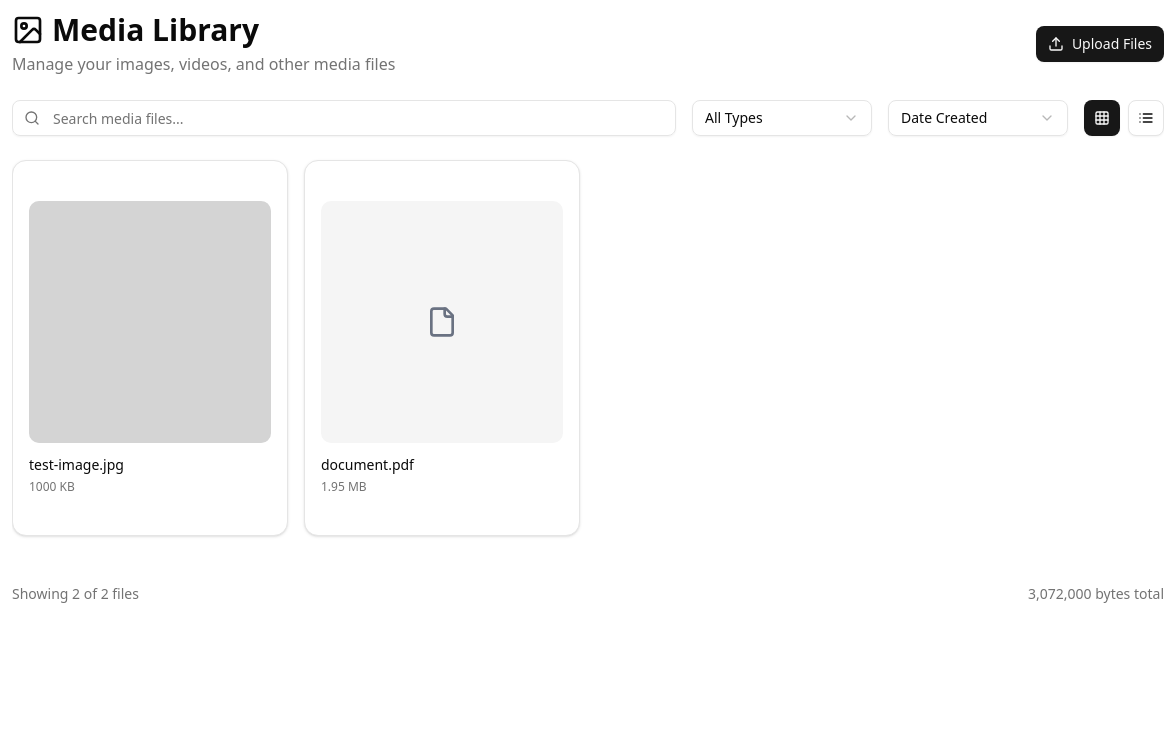
it: MediaLibrary Component › Empty State › shows filtered empty state
The image size is (1176, 732).
// Search for non-existent file
Type "nonexistent-file" into the field with placeholder "Search media files..." at [344, 118], box [12,100,676,136]
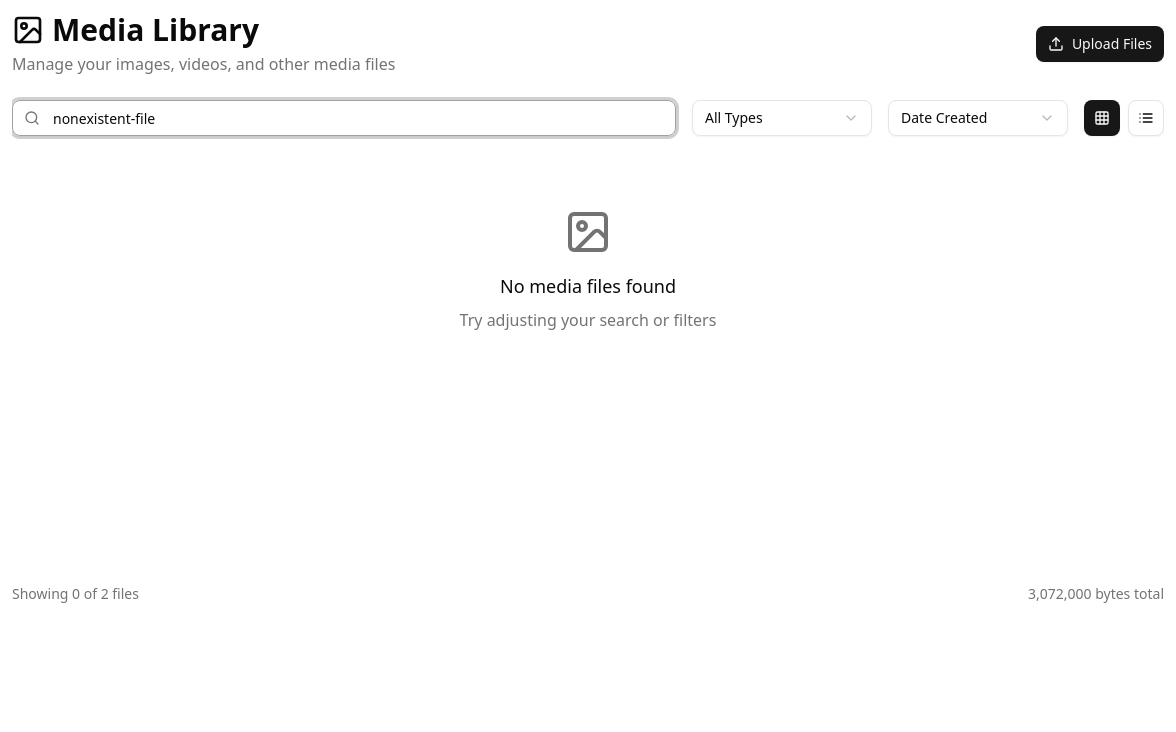
Expected: the heading "No media files found" is shown, [500,274,676,298]
Expected: the text "Try adjusting your search or filters" is shown, [460,309,716,331]
